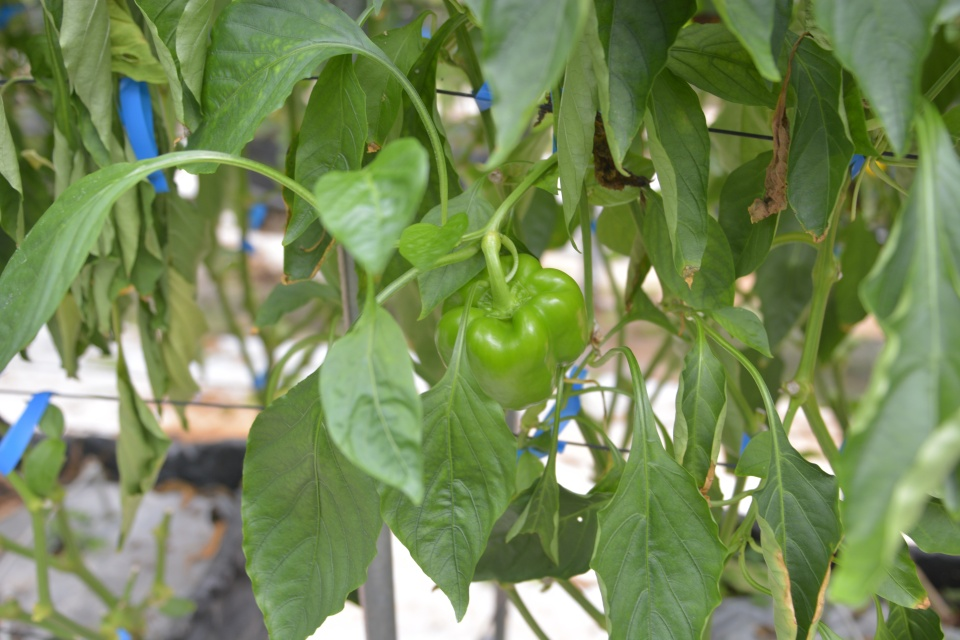fruit: (432, 250, 592, 411)
pedicle: (478, 277, 530, 319)
